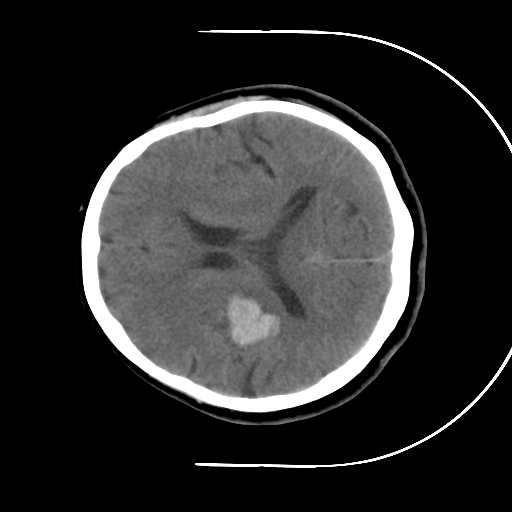a: (209, 279, 293, 360)
